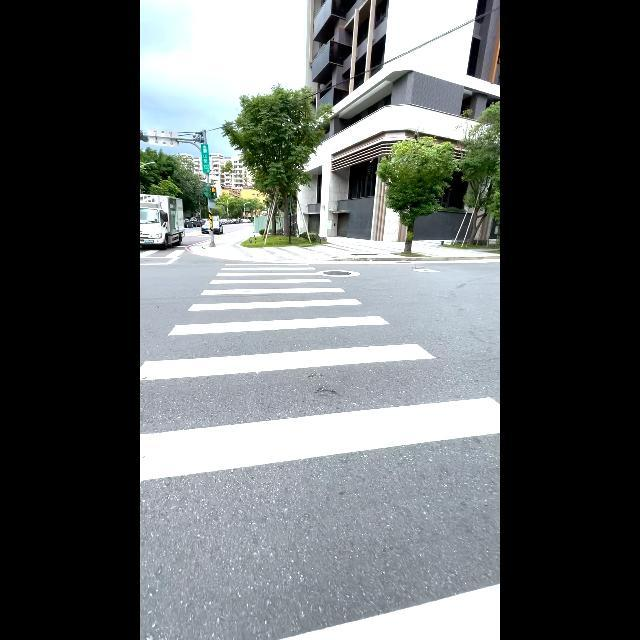sidewalk: (140, 250, 500, 640)
